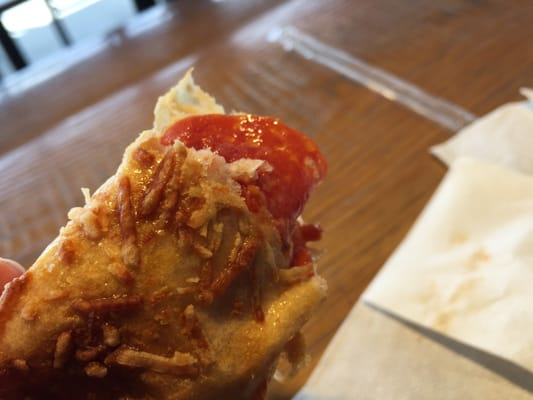soup: (0, 114, 332, 400)
